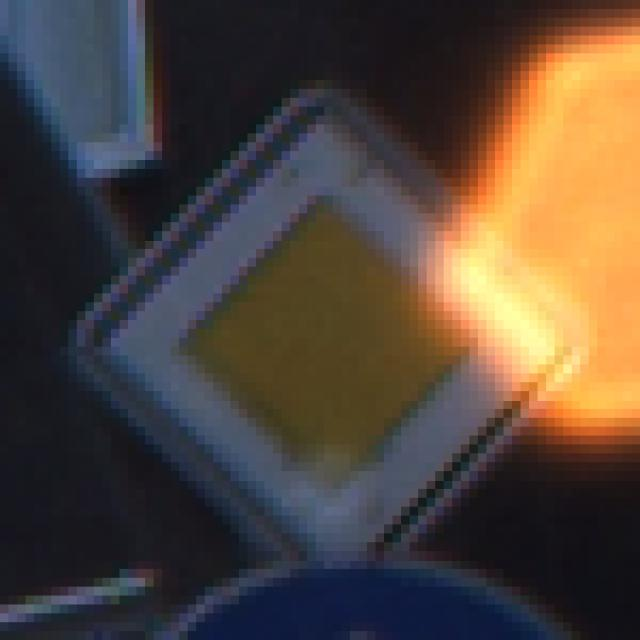Main Road: (61, 63, 590, 588)
